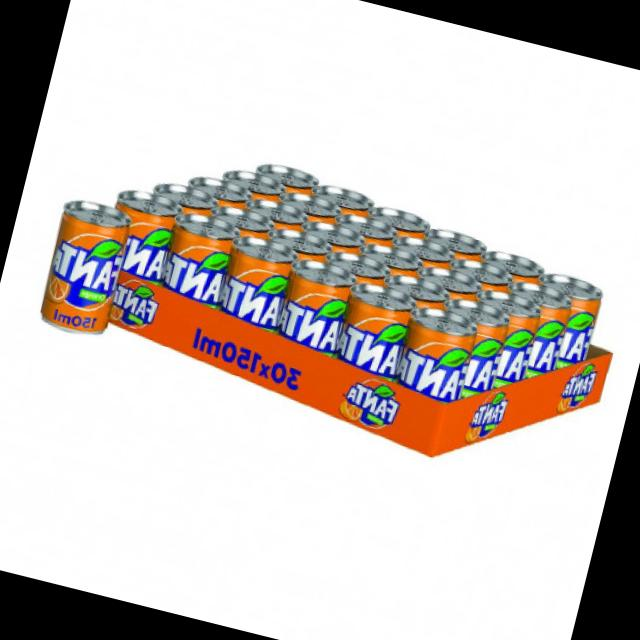fanta: (26, 196, 127, 351), (478, 276, 574, 401), (424, 286, 511, 418), (391, 310, 483, 434), (256, 257, 348, 371), (461, 278, 540, 402), (146, 223, 229, 334), (329, 286, 414, 393), (202, 242, 286, 348), (94, 191, 170, 308), (527, 272, 611, 377)
